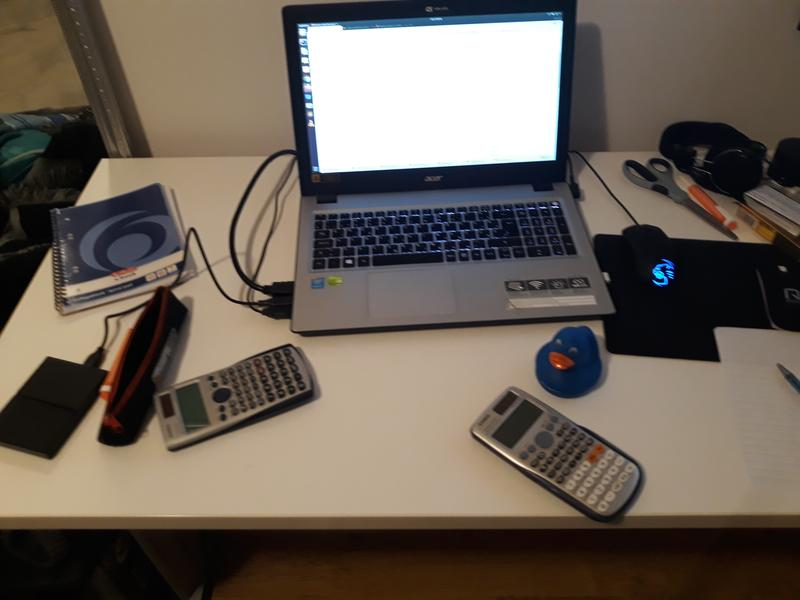CASIO_fx_991ES: (149, 337, 309, 461)
CASIO_fx_991ES_PLUS: (468, 382, 648, 531)
plava_patkica: (527, 322, 611, 409)
